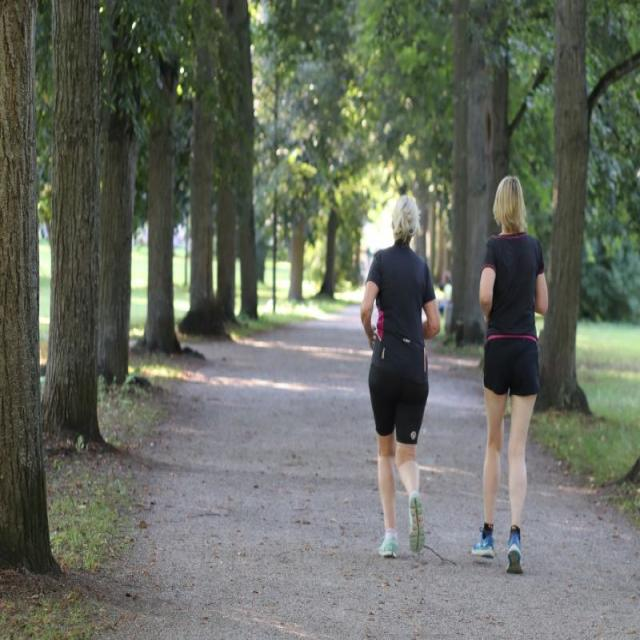running: (468, 174, 556, 576), (357, 191, 444, 562)
